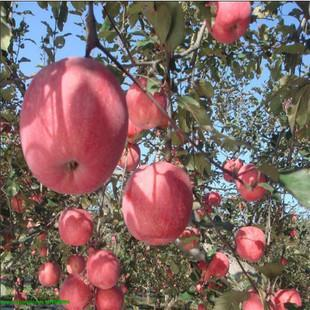apple: (17, 58, 130, 198), (120, 161, 192, 244), (124, 79, 168, 132), (205, 1, 251, 44), (86, 251, 120, 288), (60, 208, 94, 245), (238, 164, 271, 199), (236, 225, 266, 259), (58, 279, 89, 307), (96, 286, 123, 310), (273, 288, 301, 310), (39, 261, 62, 285), (209, 253, 229, 277), (224, 157, 242, 182), (244, 290, 265, 309), (66, 254, 84, 274)
